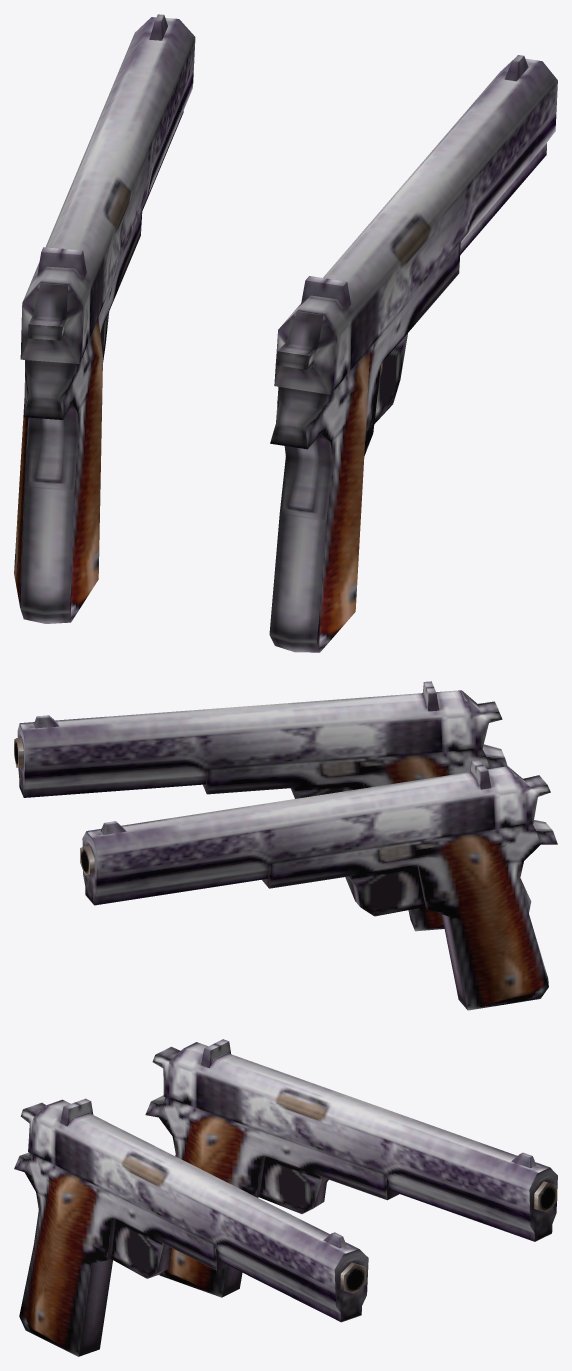
The model's file is ICON.ICO.obj.
The picture shows the model from 3 angles, top to bottom: view 1: azimuth 30°, elevation 25°; view 2: azimuth 150°, elevation 25°; view 3: azimuth 270°, elevation 25°; orthographic projection. The views are drawn at different scales.
Bounding box in the file's own units: 4.23 × 2.09 × 4.24.
Materials: 1 (1 with a texture image).
